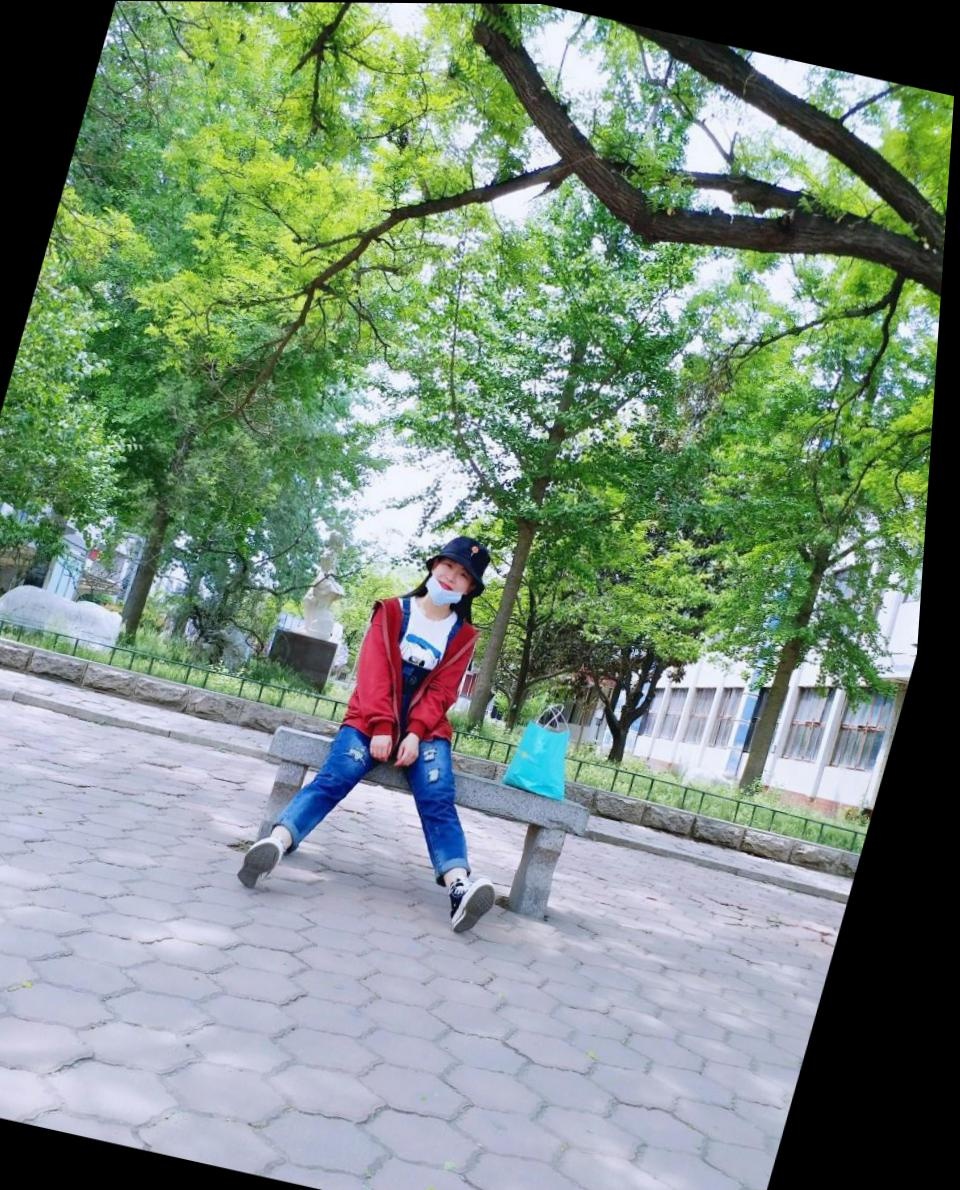WRONG: (429, 552, 490, 610)
